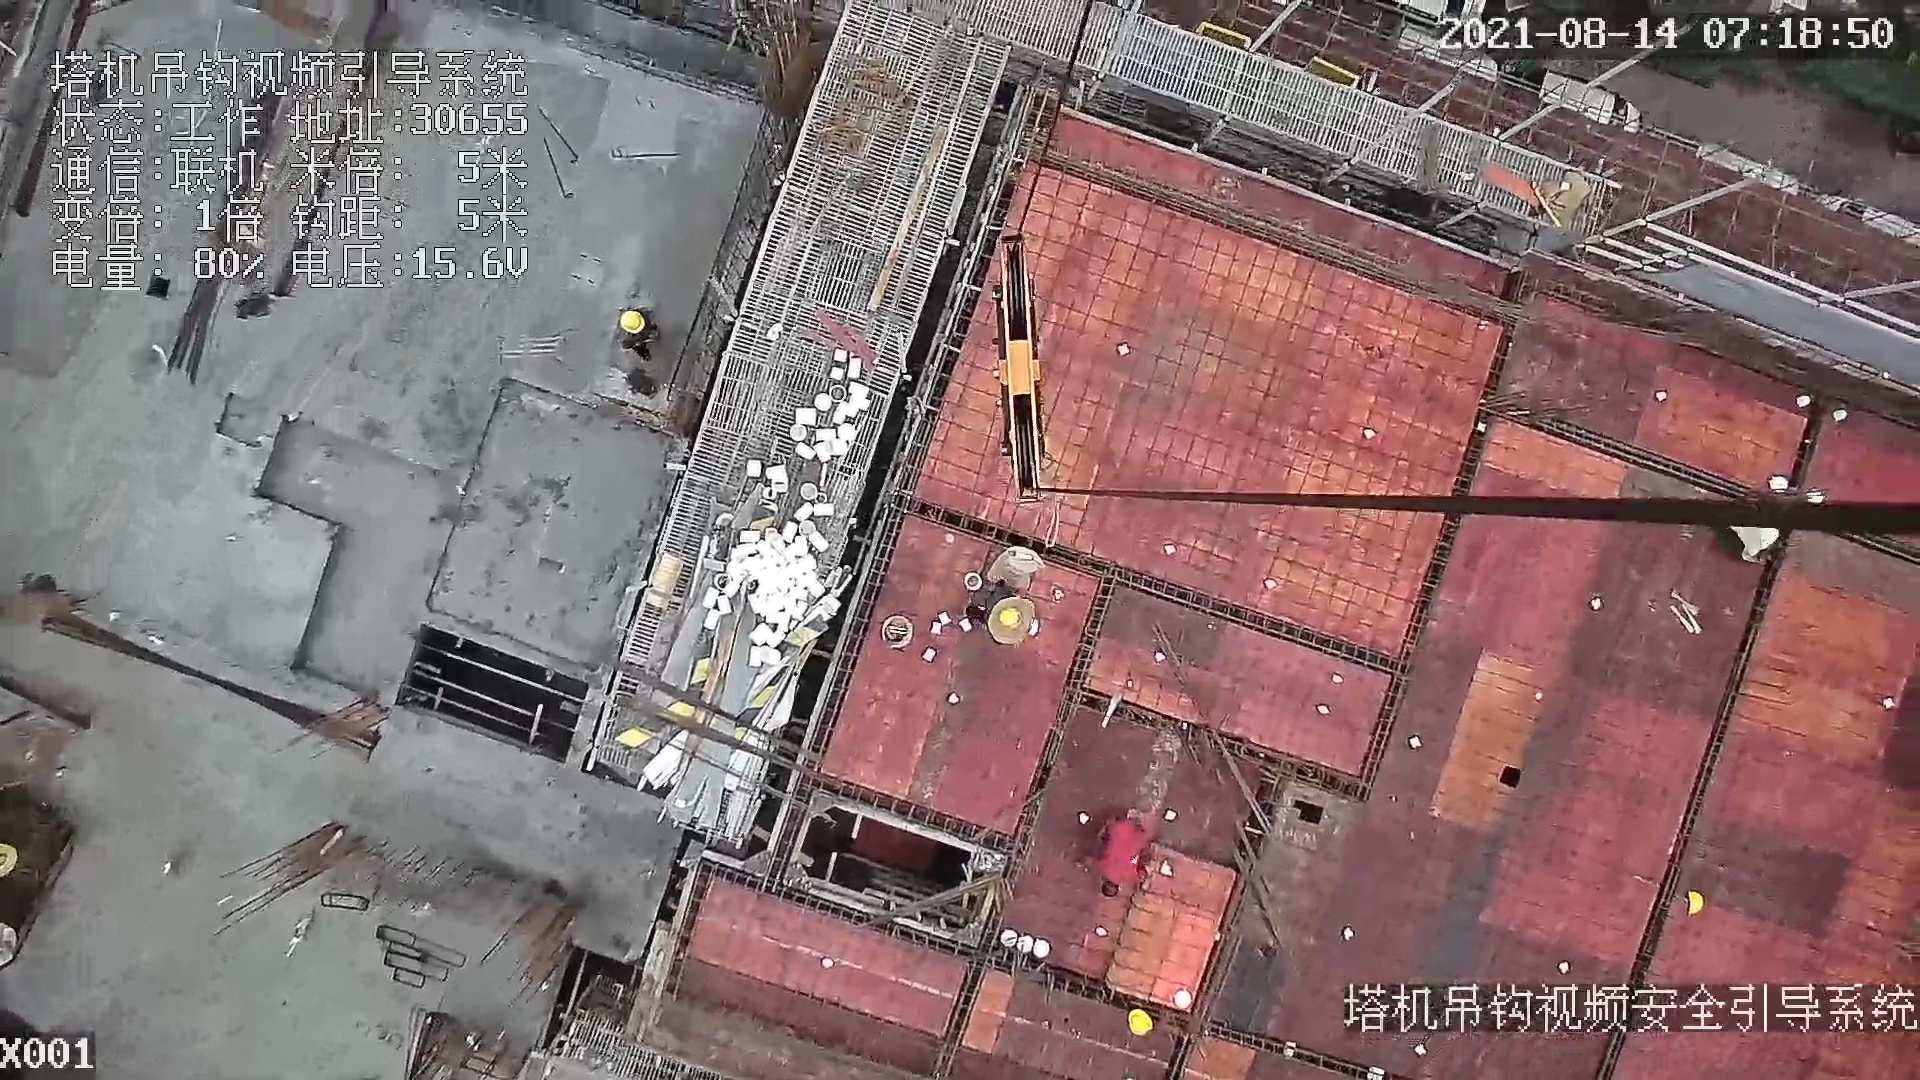helmet: (1126, 1008, 1151, 1038), (618, 312, 647, 332)
hook: (981, 226, 1051, 497)
person: (1088, 812, 1153, 904), (619, 313, 659, 364)
